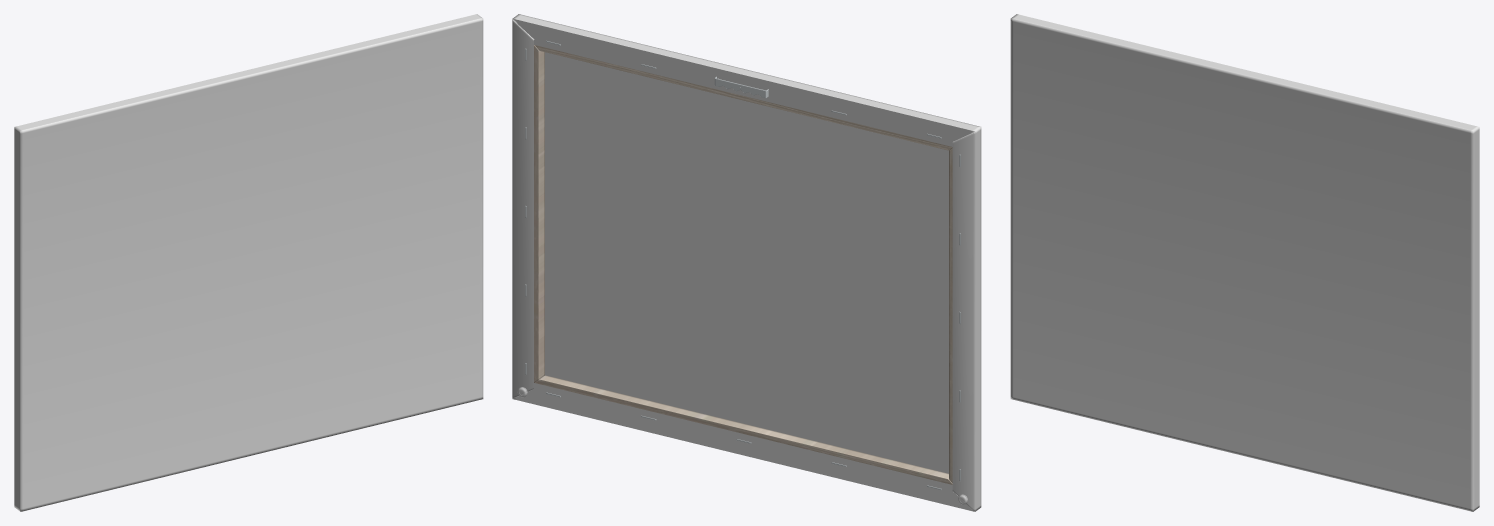
File: landscape.glb
3 views of the same model, side by side, from view 1: azimuth 30°, elevation 25°; view 2: azimuth 150°, elevation 25°; view 3: azimuth 330°, elevation 25° (orthographic).
Visible parts, largest first — view 1: Canvas; view 2: Canvas White, Canvas Frame, Canvas, Staples; view 3: Canvas.
Part boxes in pixels (left/top/right/bottom): Canvas: left=14, top=14, right=483, bottom=511; Canvas White: left=512, top=18, right=975, bottom=511; Canvas Frame: left=534, top=45, right=952, bottom=484; Canvas: left=513, top=14, right=981, bottom=511; Staples: left=525, top=40, right=960, bottom=490; Canvas: left=1010, top=14, right=1479, bottom=511.
Bounding box in the file's own units: 14.05 × 11.04 × 0.451.
5 materials, 1 textured.
